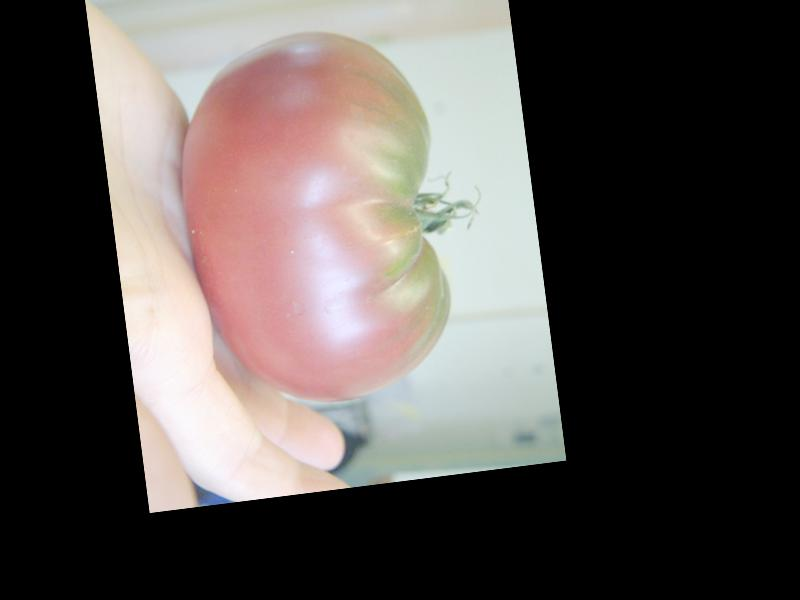Tomato: (164, 18, 462, 416)
